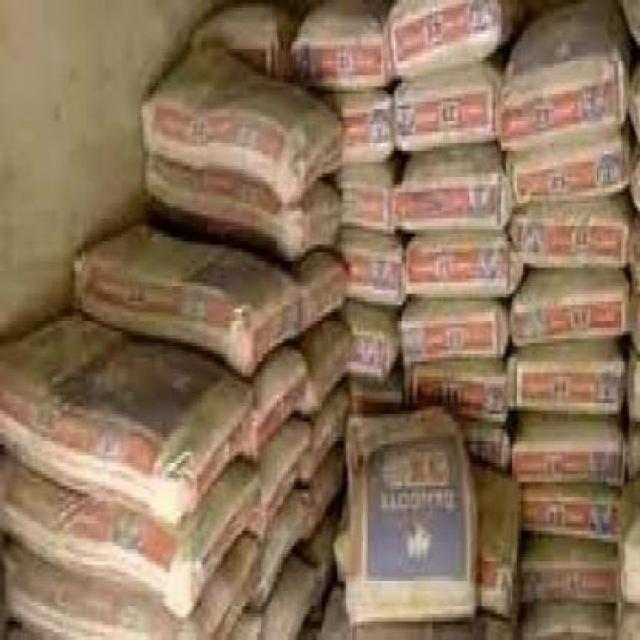gunny_bag: (0, 361, 185, 532), (1, 447, 183, 618), (347, 409, 471, 629), (74, 253, 253, 380), (3, 535, 179, 640), (144, 147, 297, 260), (140, 93, 299, 198), (495, 64, 623, 151), (508, 132, 627, 215), (394, 295, 508, 369), (395, 166, 509, 237), (392, 82, 498, 157), (390, 0, 495, 74), (408, 232, 513, 301), (510, 350, 626, 411), (512, 433, 628, 494), (259, 488, 315, 612), (522, 480, 624, 547), (294, 25, 390, 94), (405, 362, 509, 419), (507, 212, 630, 260), (336, 227, 406, 309), (324, 91, 395, 171), (257, 424, 305, 540), (191, 13, 281, 72), (510, 292, 627, 336), (522, 557, 623, 607), (250, 362, 303, 455), (331, 160, 397, 232), (339, 301, 397, 378), (298, 254, 350, 339), (304, 329, 353, 413), (264, 566, 321, 638), (305, 389, 346, 486), (305, 444, 348, 533), (519, 604, 622, 638), (462, 419, 514, 466), (477, 558, 516, 618), (313, 533, 339, 595)
